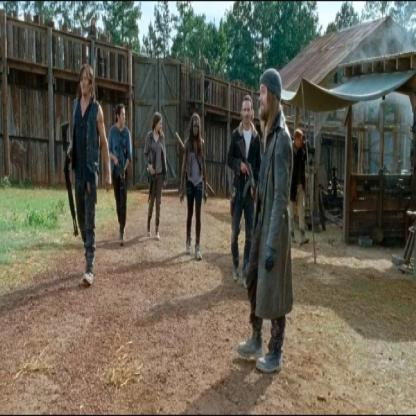Gun: (58, 117, 78, 240), (236, 134, 256, 208), (146, 148, 156, 203), (115, 156, 127, 195)
